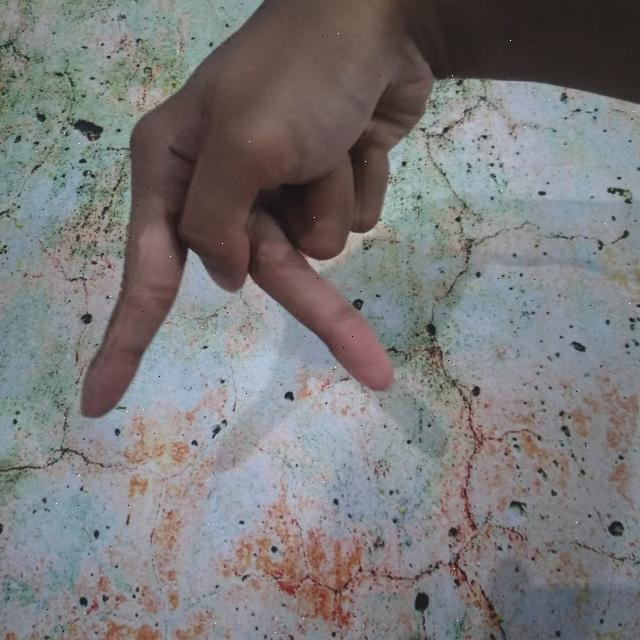P: (66, 0, 640, 426)
